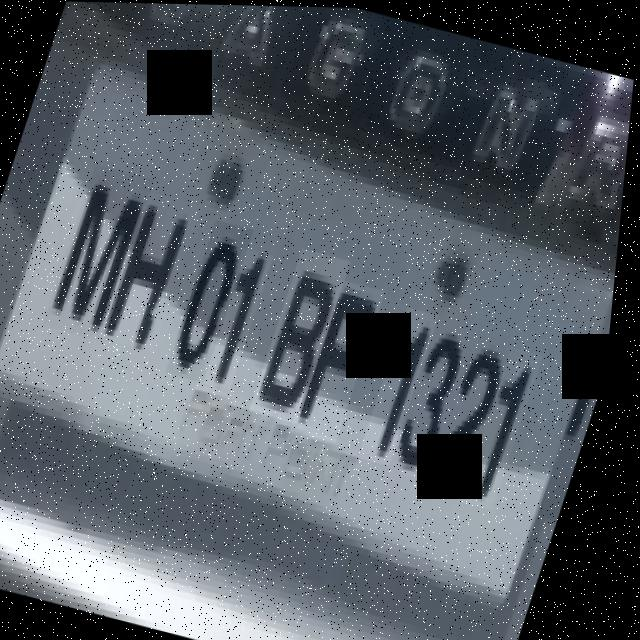0: (172, 218, 258, 382)
1: (469, 343, 550, 508), (366, 304, 446, 465), (206, 246, 279, 390)
3: (399, 316, 486, 478)
B: (255, 247, 356, 423)
F: (297, 277, 391, 441)
H: (103, 190, 206, 351)
M: (47, 163, 159, 340)
